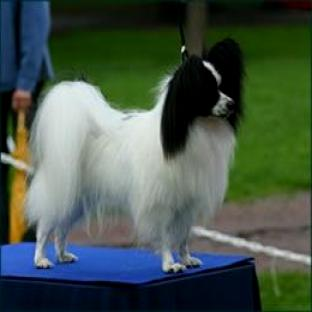Animal: (26, 38, 244, 272)
